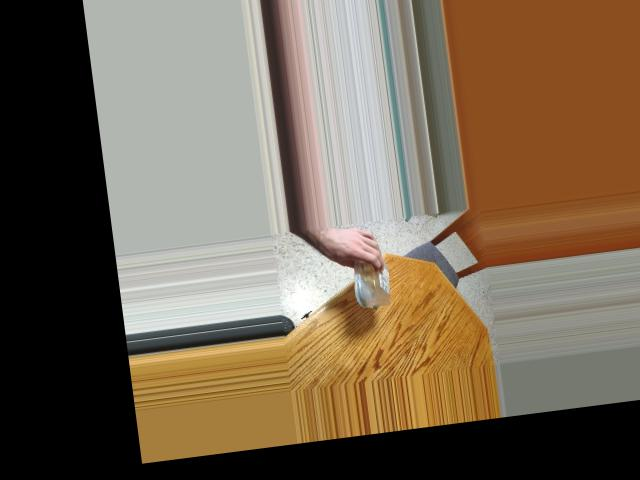cheese: (336, 244, 402, 316)
